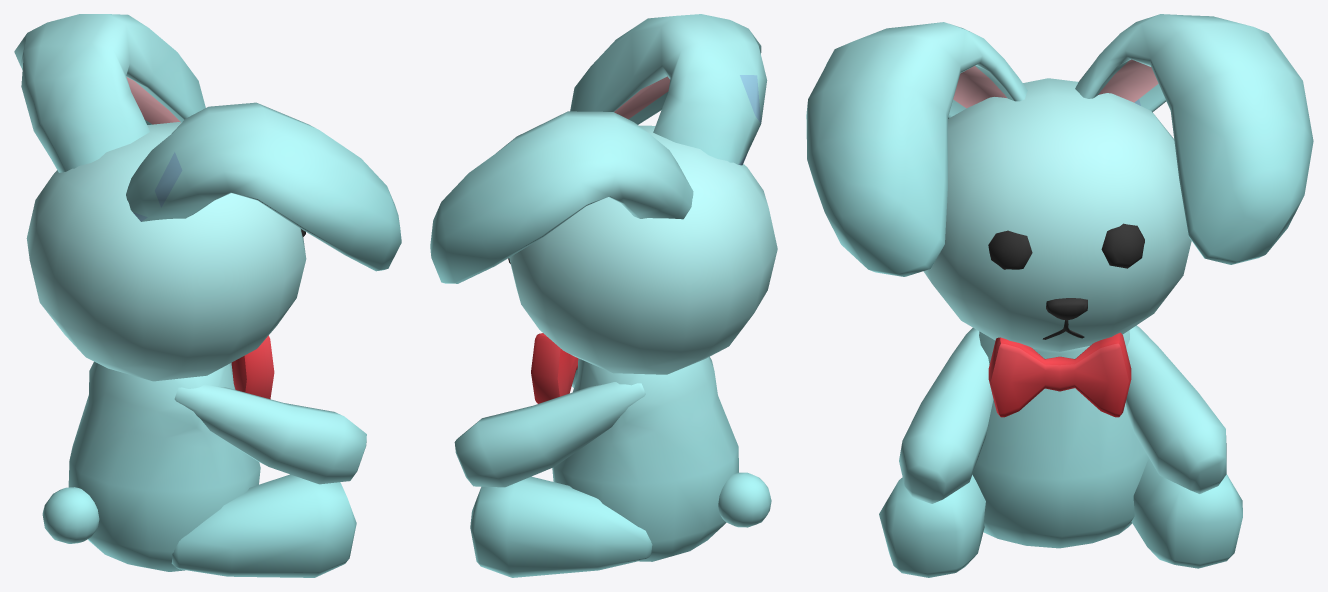
File: Bany.fbx
3 renders of one model, left to right at view 1: azimuth 30°, elevation 25°; view 2: azimuth 150°, elevation 25°; view 3: azimuth 270°, elevation 25°, orthographic. The views are drawn at different scales.
Visible parts, largest first — view 1: 1_001_0; view 2: 1_001_0; view 3: 1_001_0.
Part boxes in pixels (bbox=[...]): 1_001_0: bbox=[14, 14, 401, 577]; 1_001_0: bbox=[430, 14, 777, 577]; 1_001_0: bbox=[806, 14, 1313, 577].
Size of the model in its own units: 1357 by 2306 by 2072.
